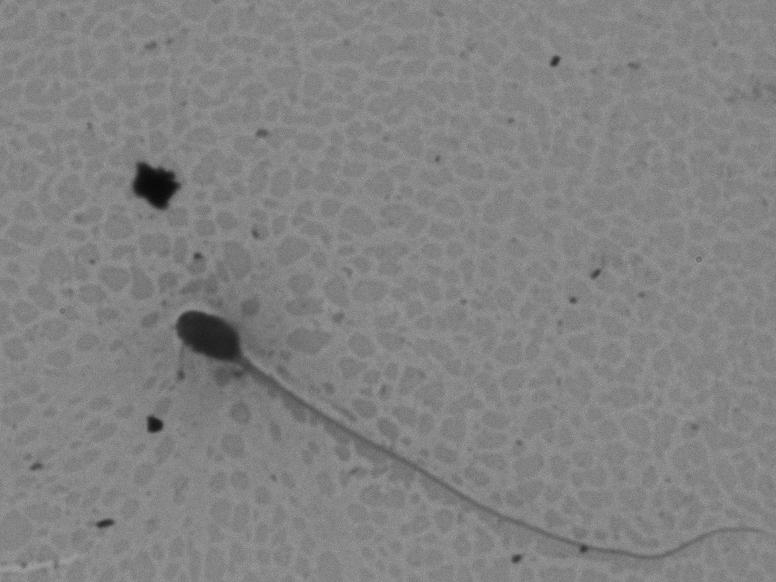Normal: (148, 294, 759, 568)
